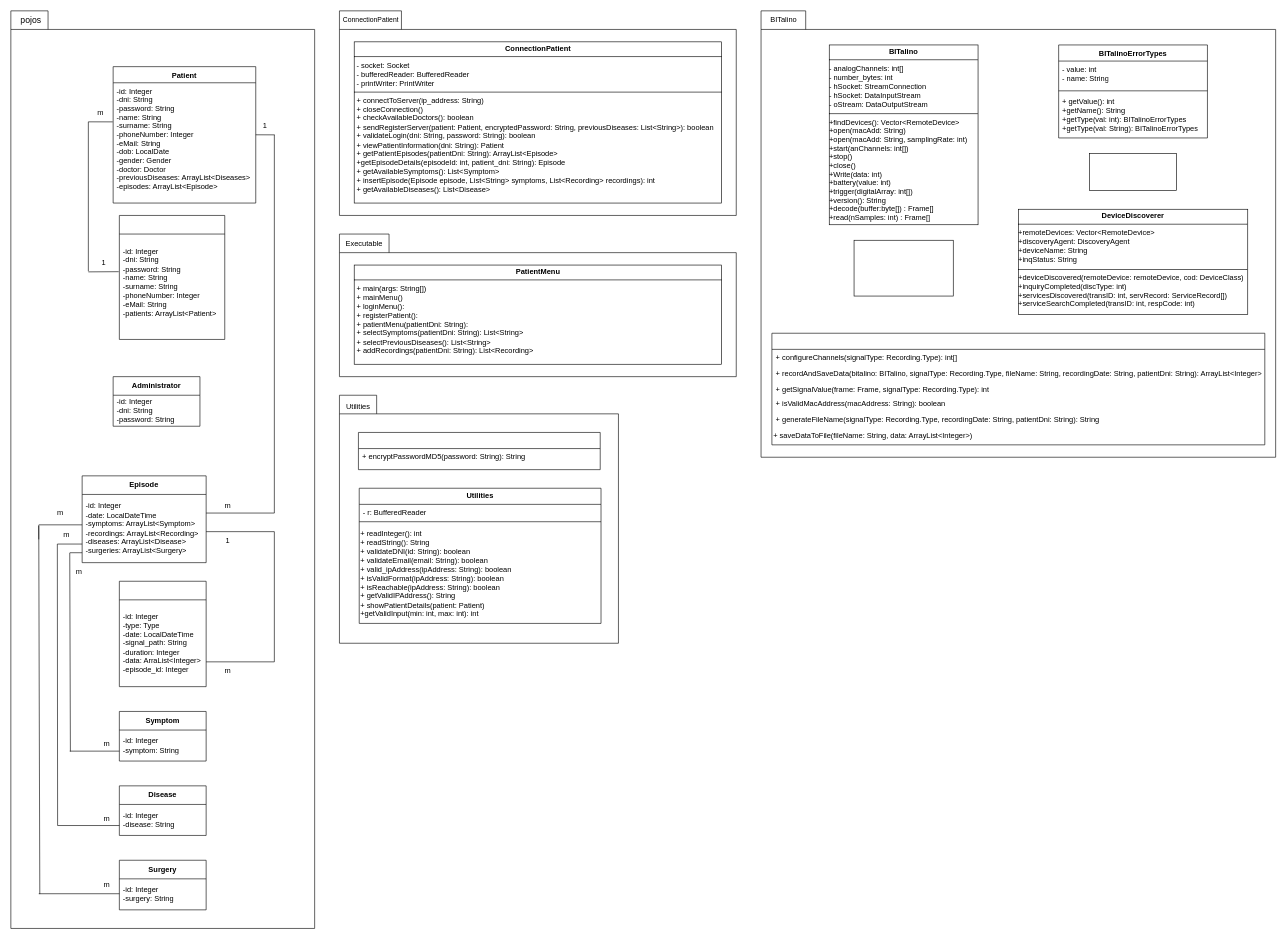
Some shapes in this 1287 by 939 pixel diagram are drawn without their labels. Here are the shapes that lost their labels. From the top down, the box of each, then its label:
(1089, 153, 1176, 191): BITalinoException + code: int
(119, 215, 225, 339): Doctor
(853, 240, 953, 296): Frame +CRC: int +seq: int +analog: int[] +digital: int[]
(771, 333, 1265, 445): BITalinoDemo
(358, 432, 600, 470): Encryption
(119, 581, 206, 687): Recording
